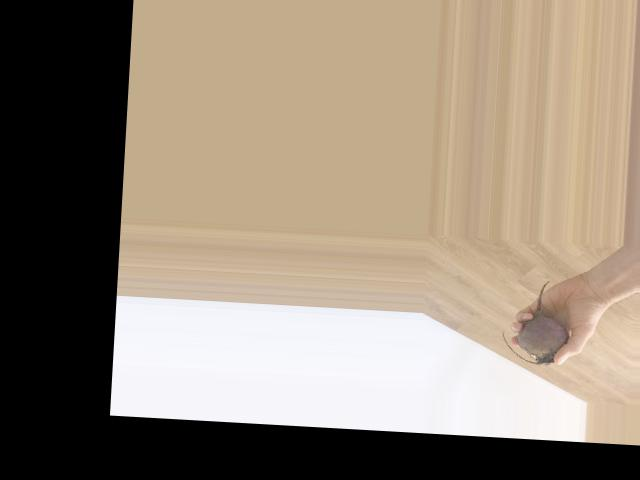beet: (499, 278, 571, 367)
